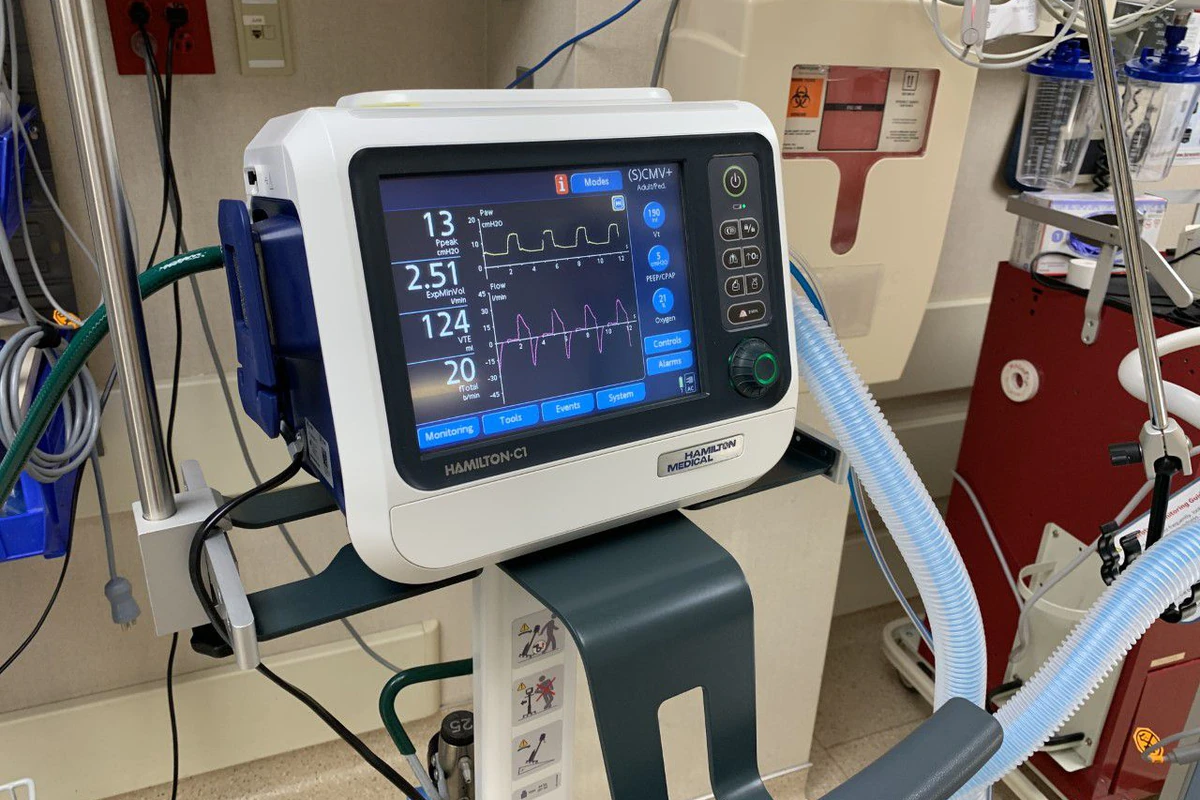bedside_monitor: (260, 84, 850, 571)
breathing_tube: (803, 319, 1200, 800)
medical_waste_container: (662, 7, 988, 404)
